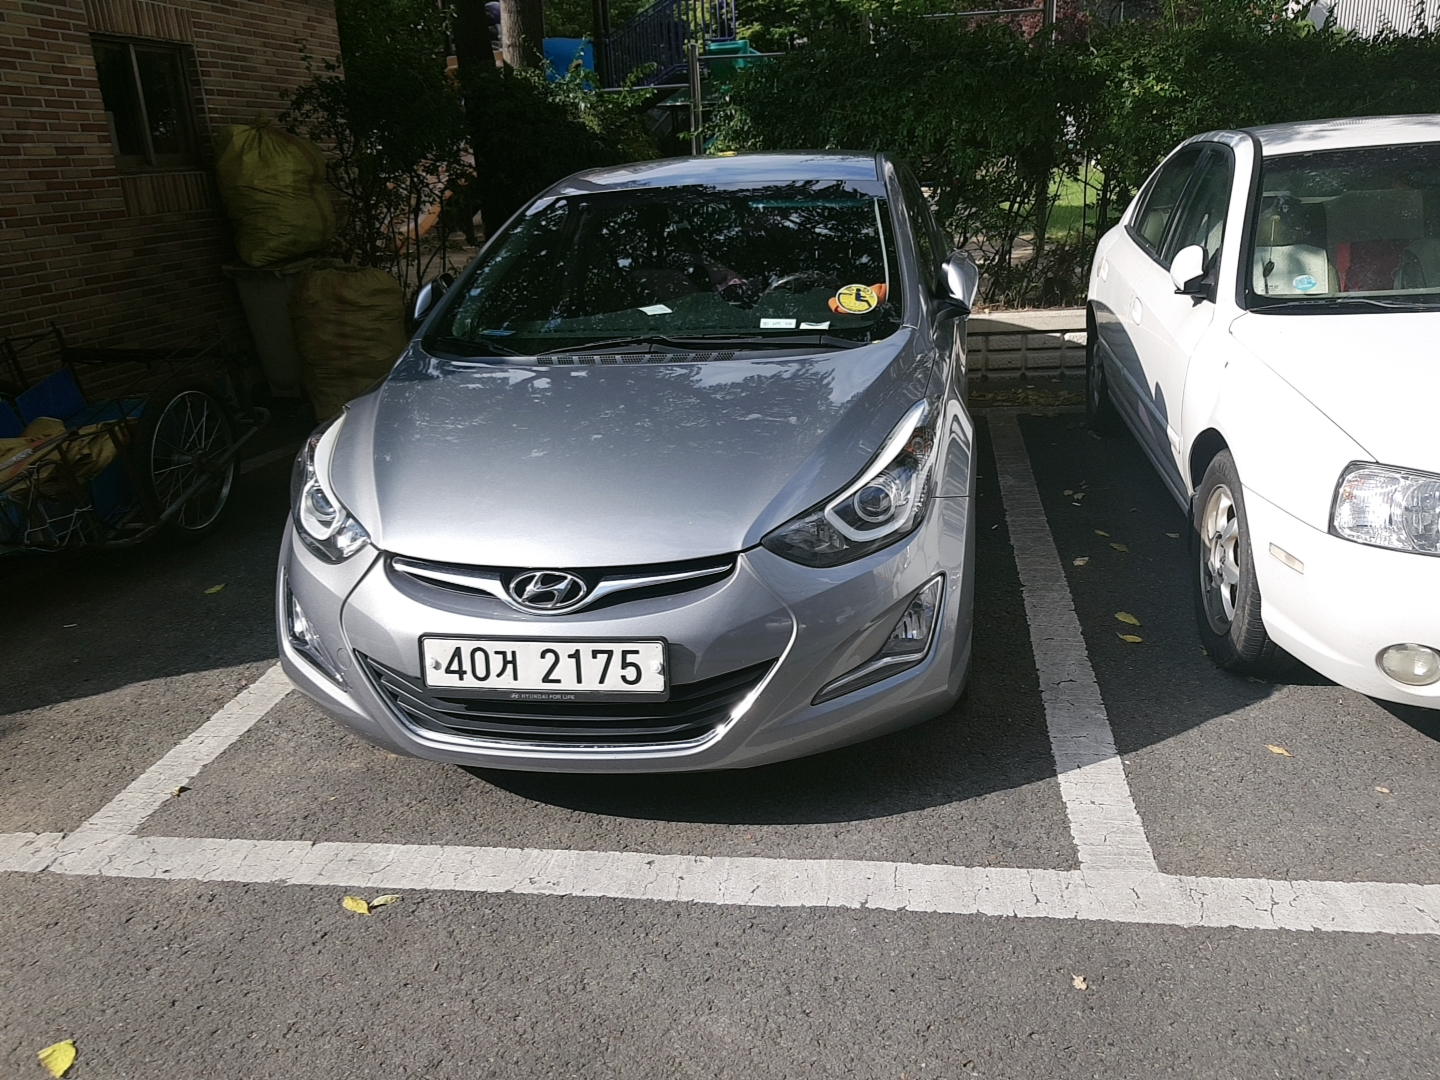apart_parking: (1291, 272, 1321, 292)
disabled_parking: (835, 278, 882, 312)
